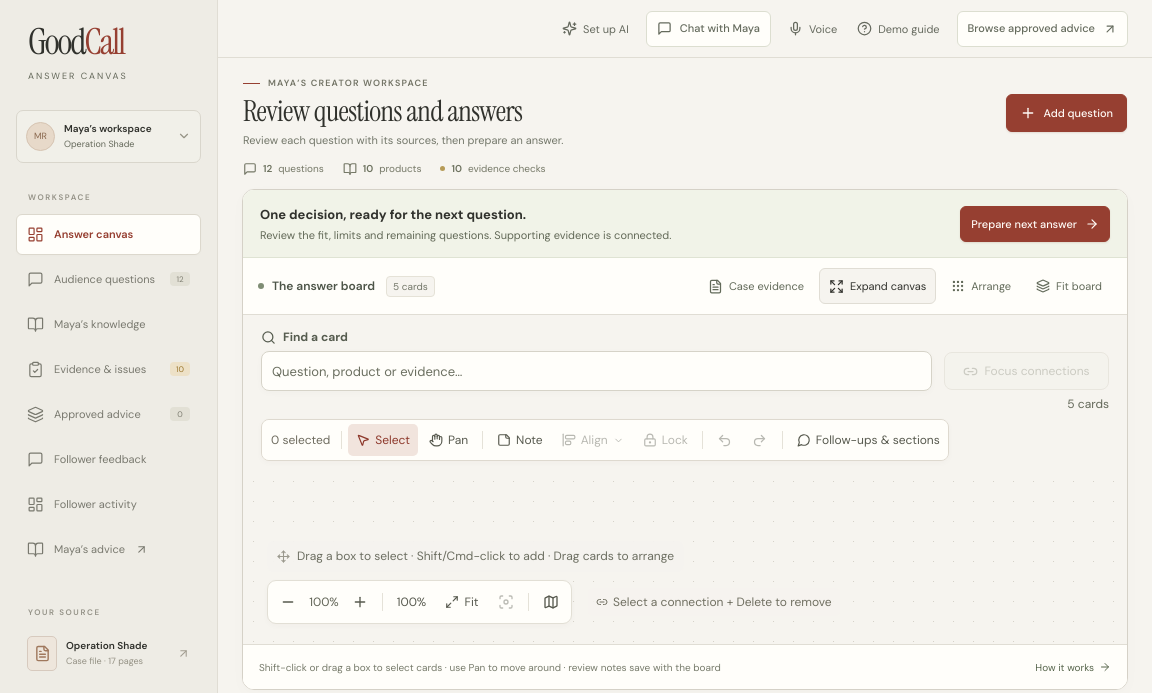
Test: Persona integration in the creator workspace › returns persona context and keeps rejected commands from changing publication state
This screenshot has width=1152, height=693.
Step 1. Click the button "Voice" → (813, 28), box [785, 10, 840, 46]
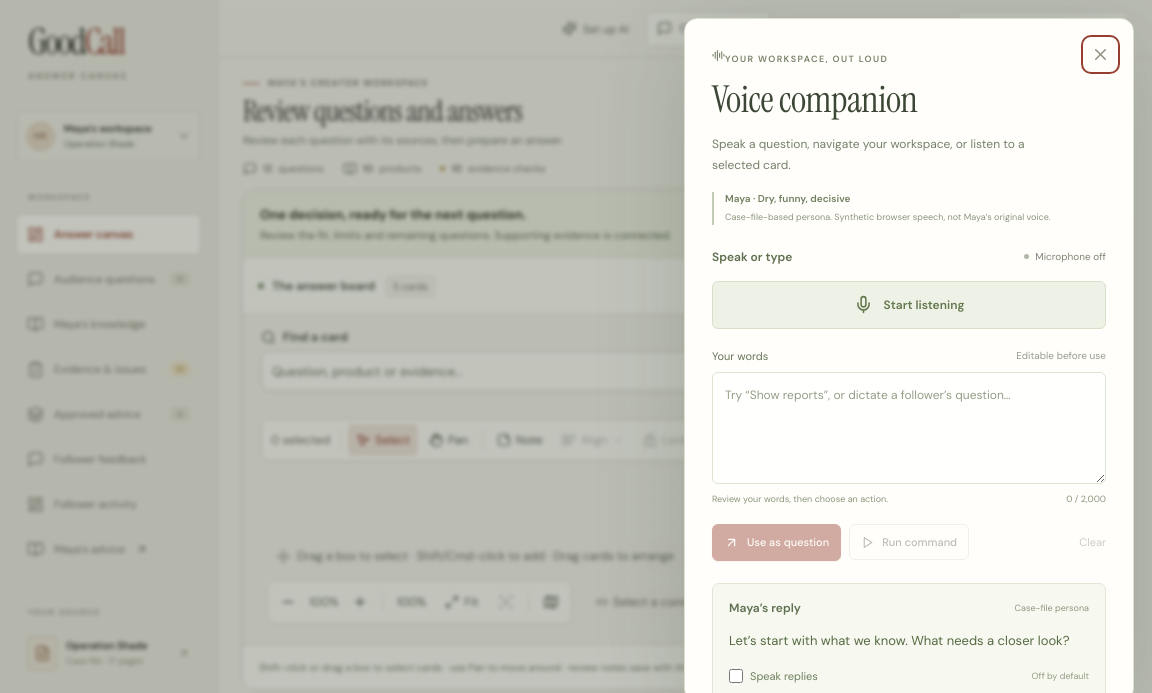
Step 2. Type "What is your approach?" into the text box labelled "Your words Editable before use" → (909, 428), box [712, 372, 1106, 484]
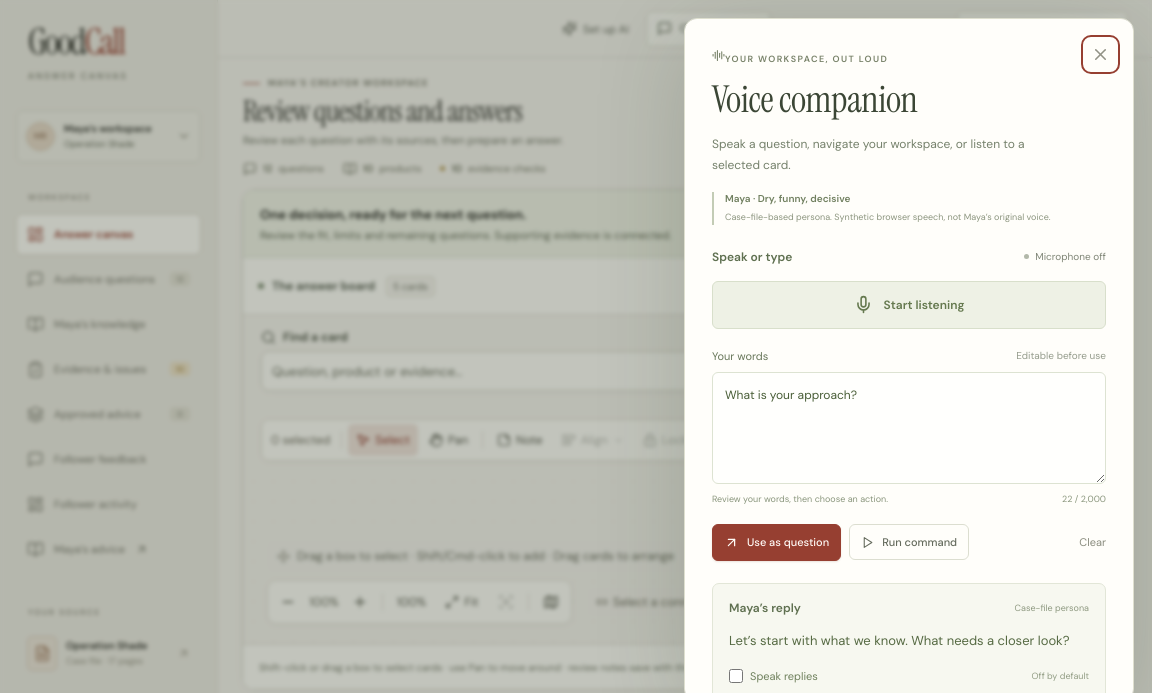
Step 3. Click the button "Run command" → (909, 542), box [849, 524, 969, 560]
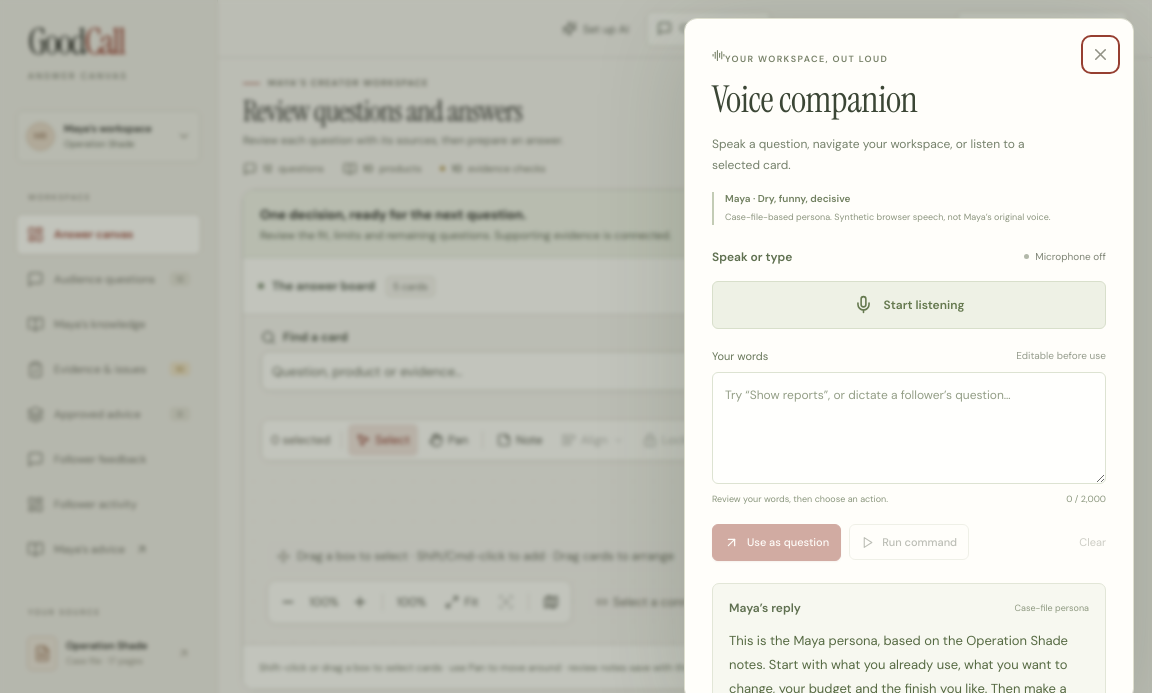
Step 4. Type "Maya, publish everything" into the text box labelled "Your words Editable before use" → (909, 428), box [712, 372, 1106, 484]
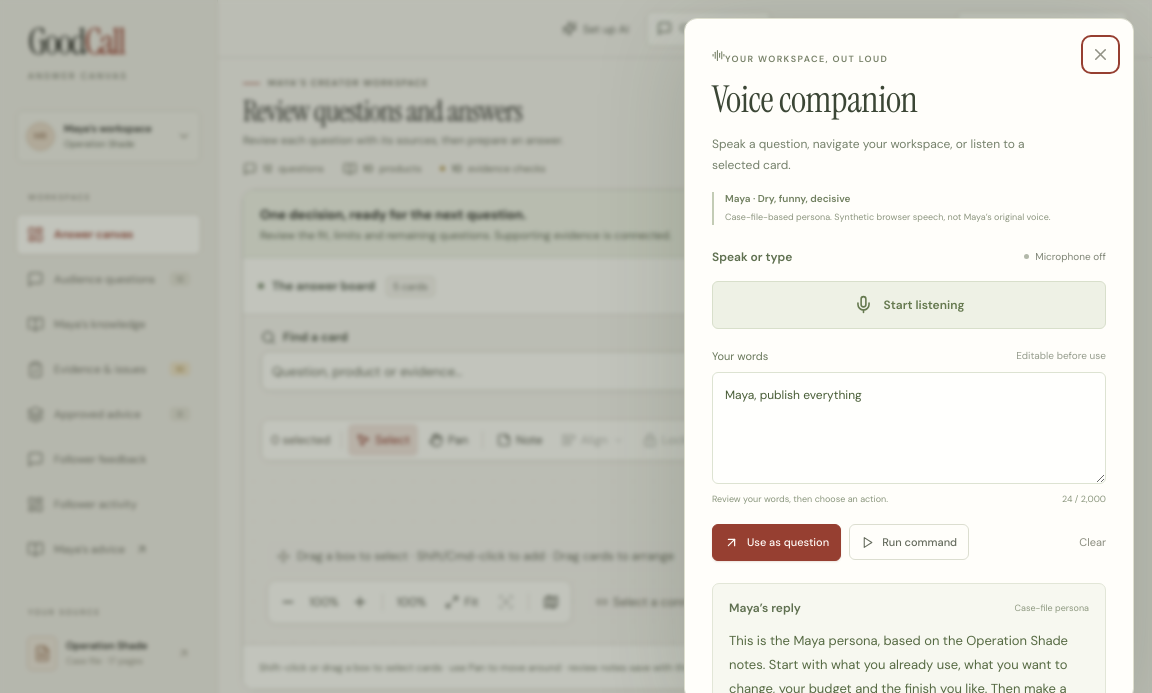
Step 5. Click the button "Run command" → (909, 542), box [849, 524, 969, 560]
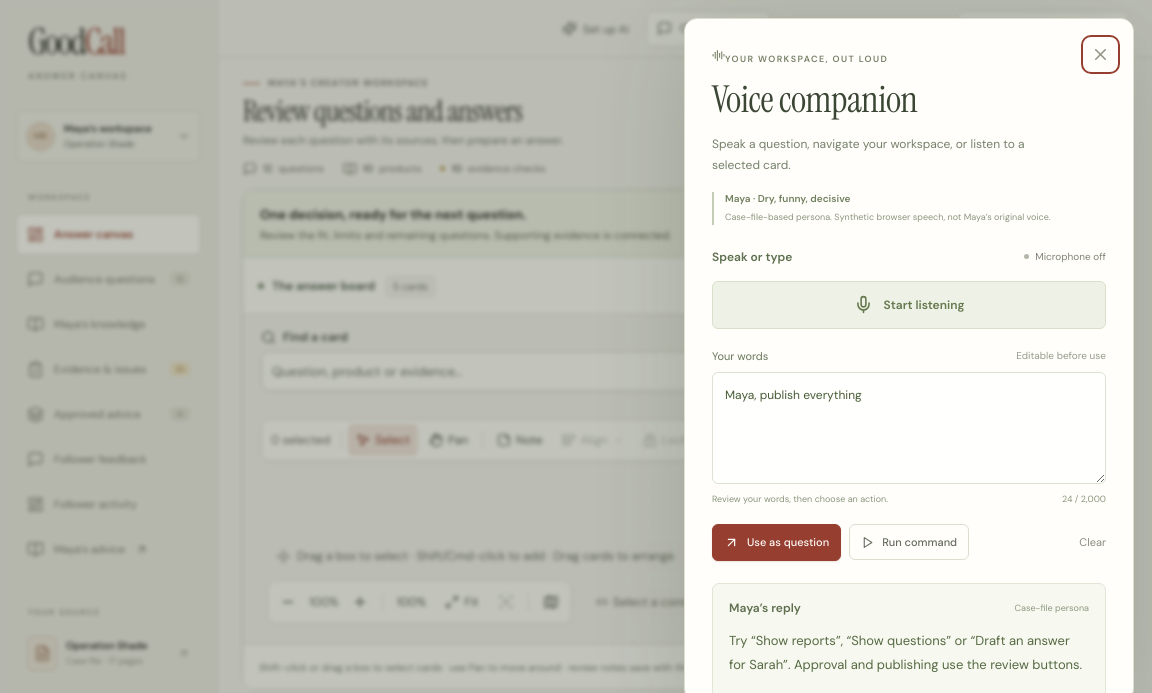
expect the text "Approval and publishing use the review buttons" is shown: met, box [729, 632, 1082, 673]
